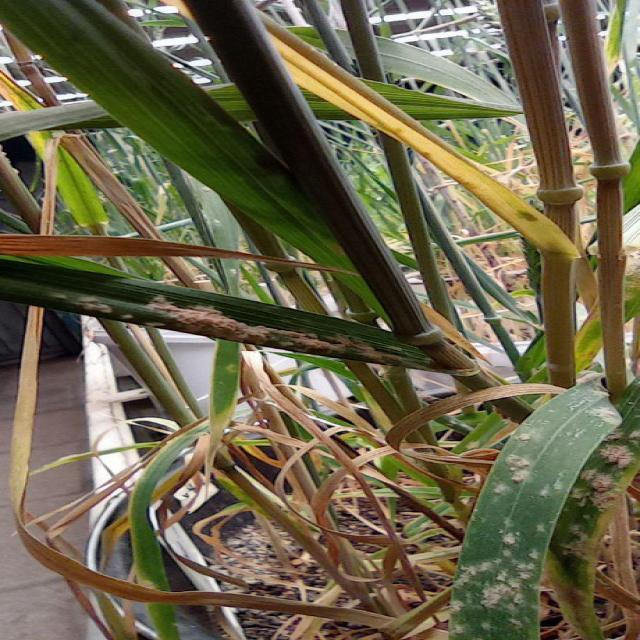wheat-powdery-mildew: (448, 376, 632, 640), (38, 282, 442, 372)
